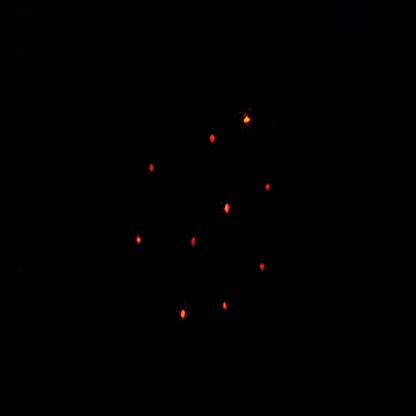PET: (241, 239, 291, 300), (136, 147, 168, 192), (181, 216, 207, 266), (259, 170, 279, 206), (205, 125, 224, 154)
PVC: (238, 104, 258, 141), (174, 299, 194, 332), (217, 289, 237, 320), (219, 193, 237, 227), (130, 227, 150, 257)
